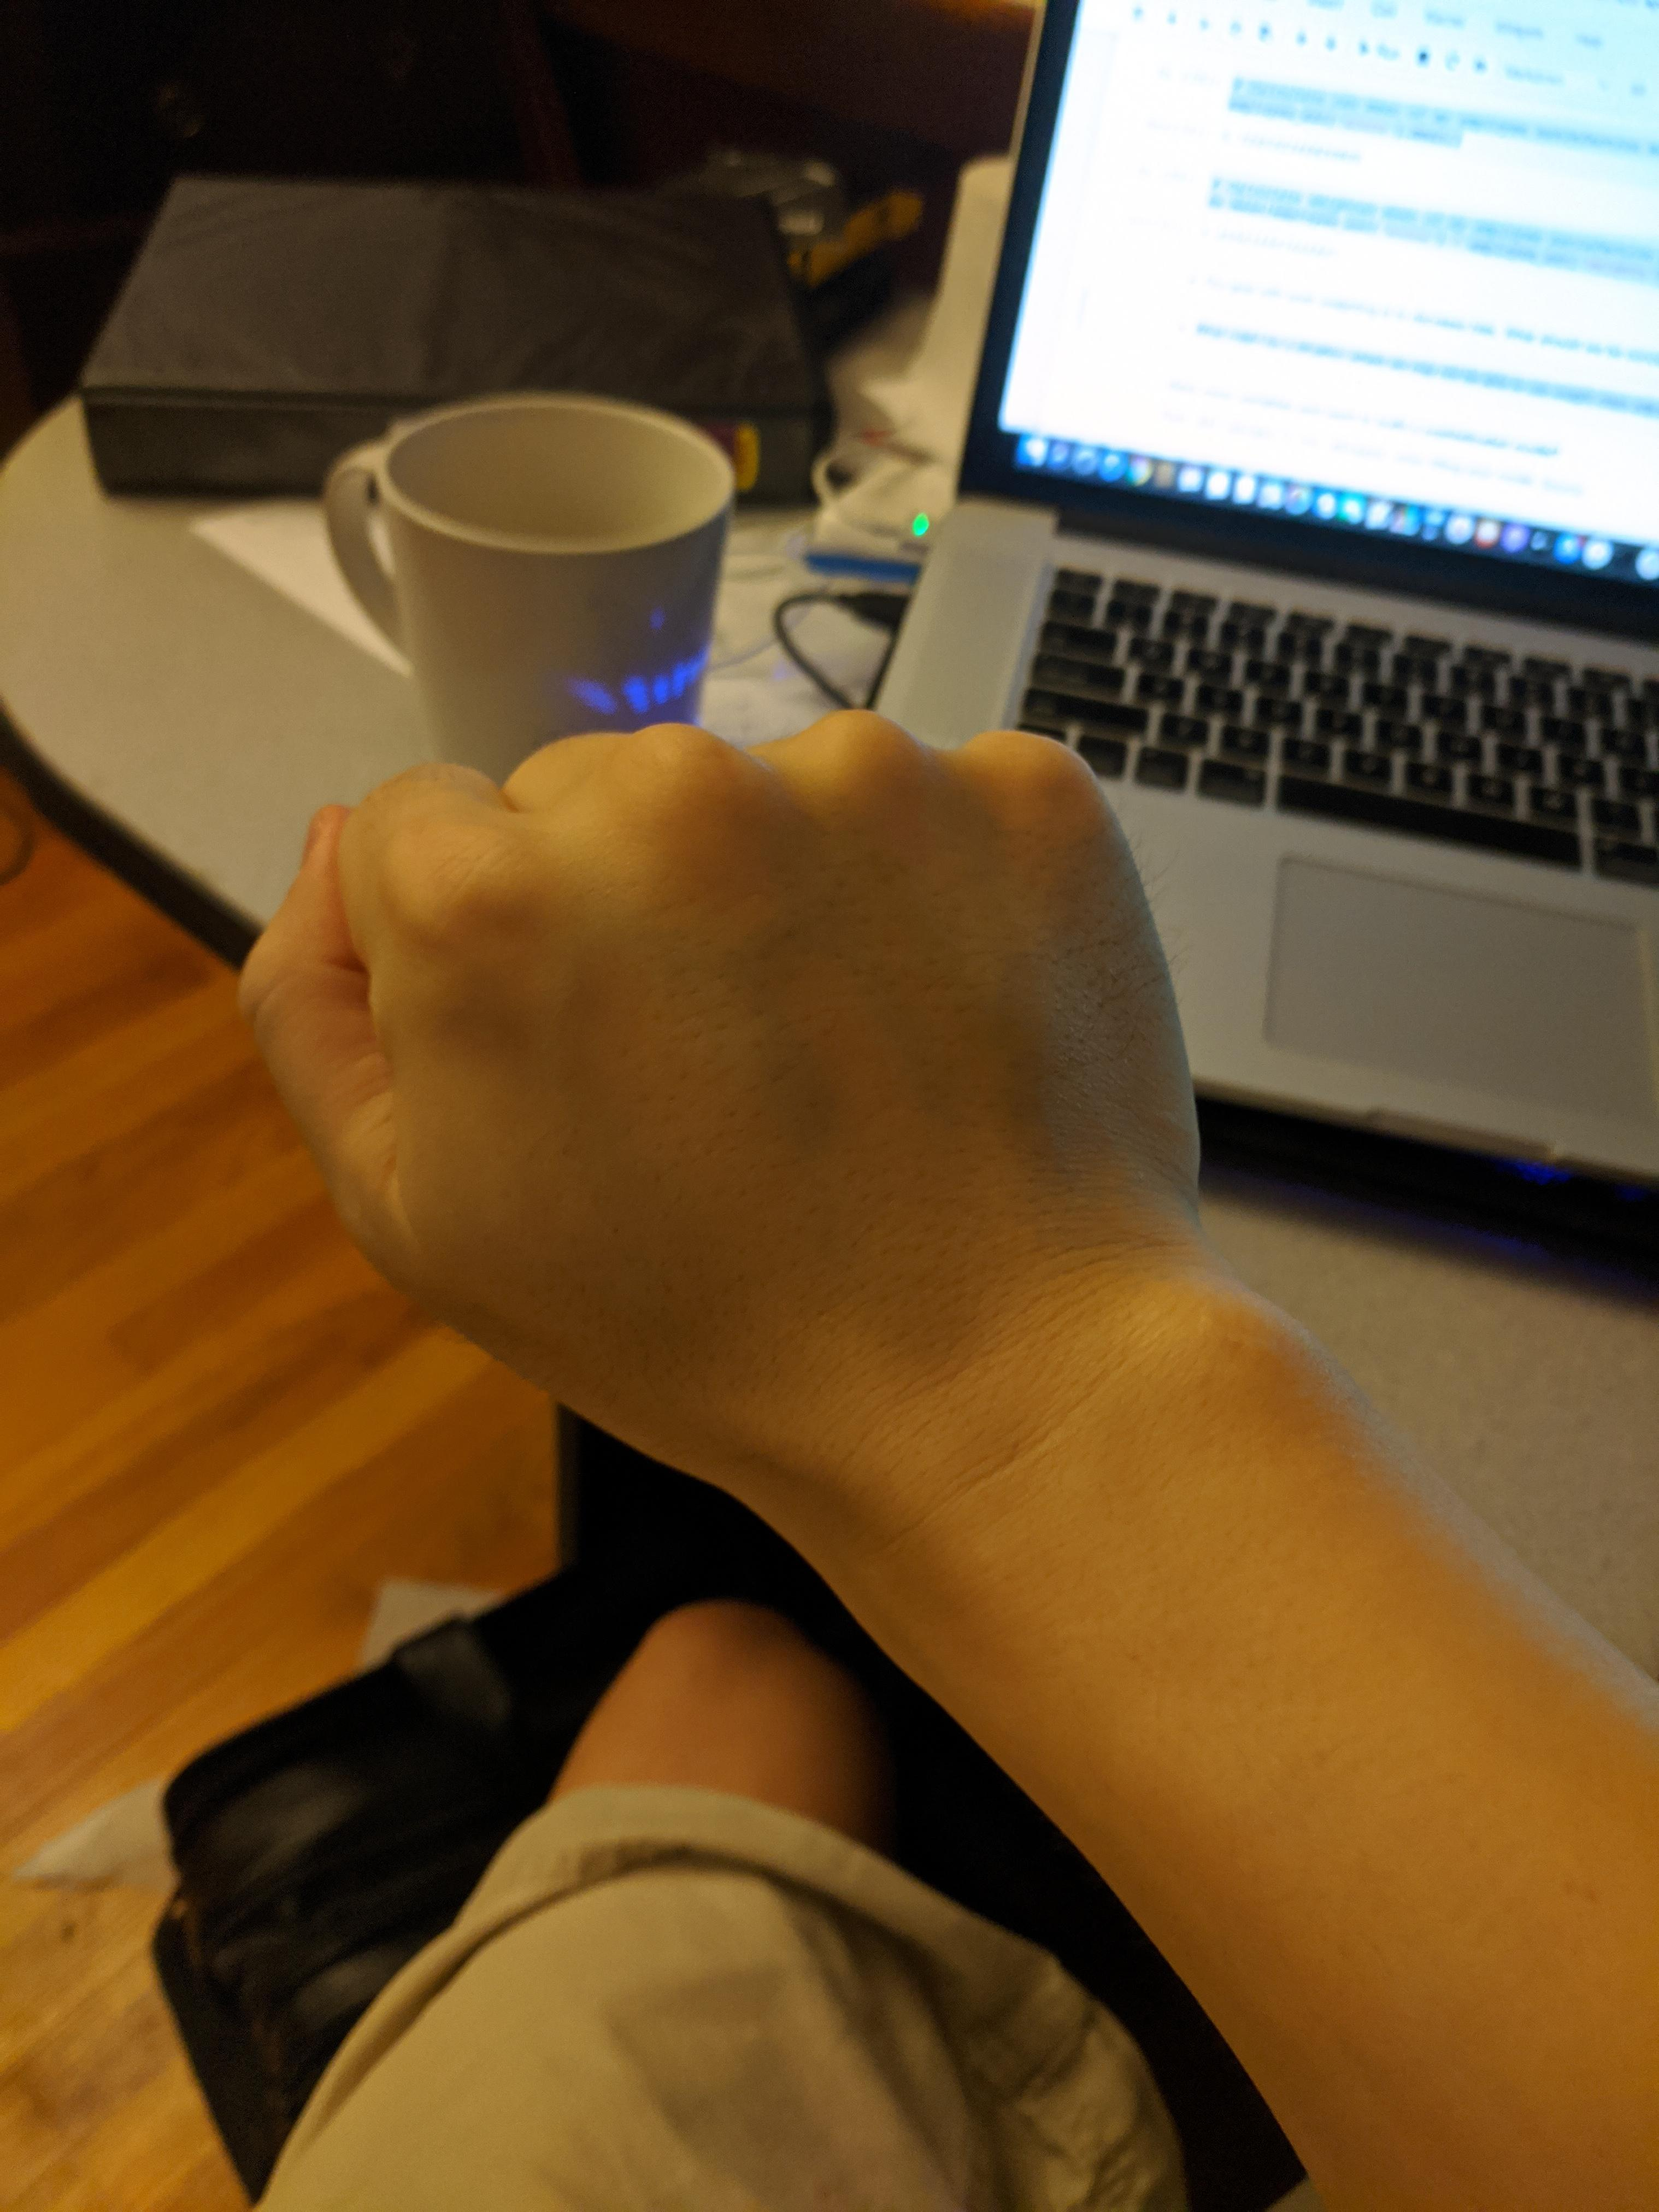A: (216, 678, 1244, 1482)
